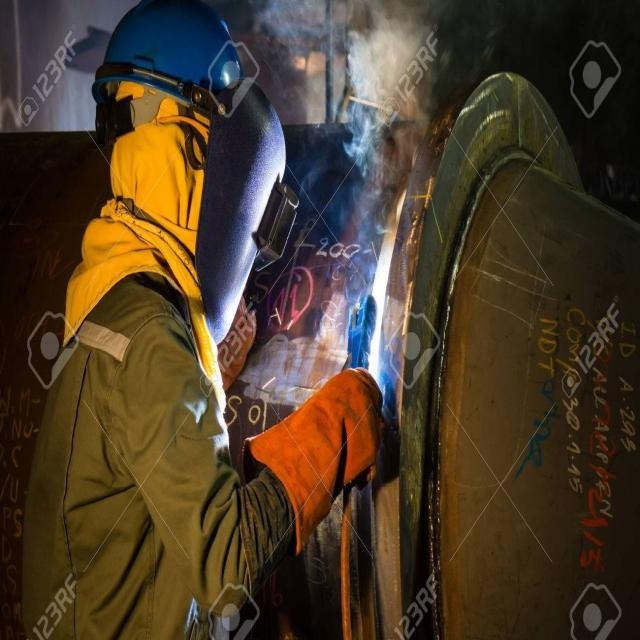Con_Casco: (95, 0, 242, 151)
